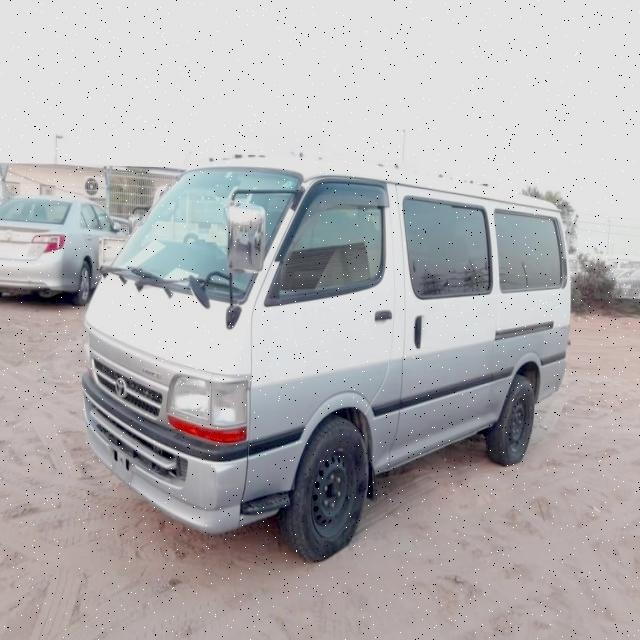Van: (78, 156, 573, 542)
